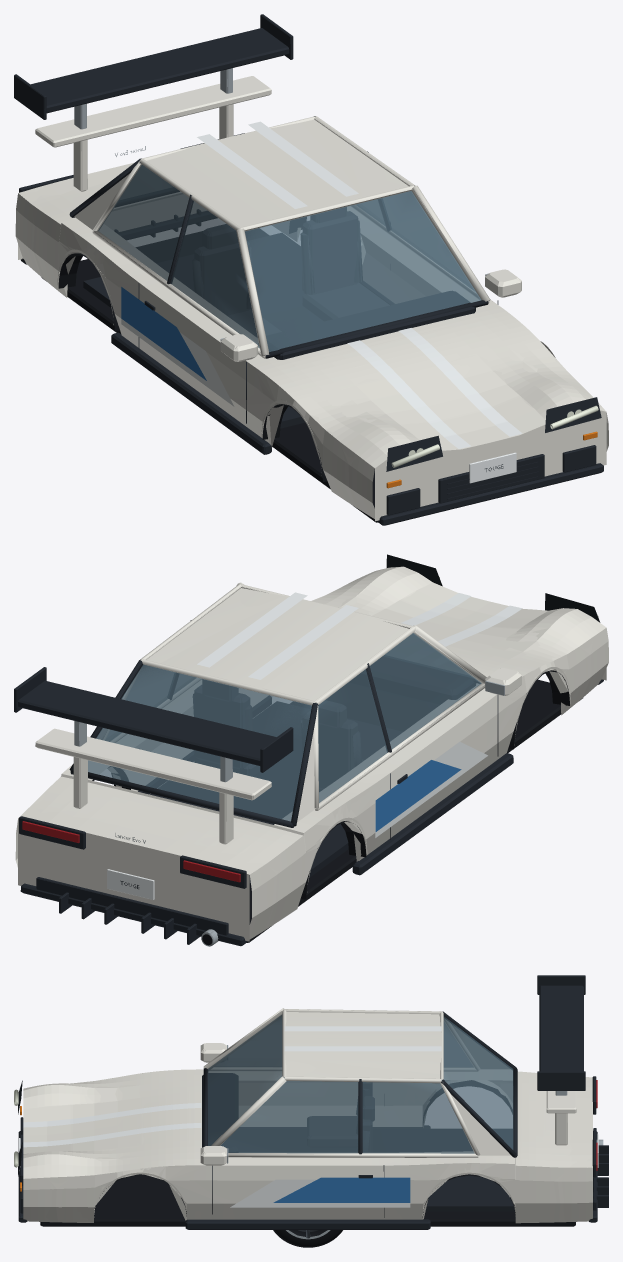
The model's file is evo5.glb.
The picture shows the model from 3 angles, top to bottom: view 1: azimuth 30°, elevation 25°; view 2: azimuth 150°, elevation 25°; view 3: azimuth 270°, elevation 25°; orthographic projection. The views are drawn at different scales.
Visible parts, largest first — view 1: LOD0_body, LOD0_cabin, LOD0_glass, LOD1_glass, LOD1_body, LOD0_hood, LOD1_hood, LOD1_cabin, LOD1_spoiler_gt, LOD0_spoiler_stock, LOD0_spoiler_gt, LOD1_vinyl_twin (+3 smaller); view 2: LOD0_body, LOD0_cabin, LOD0_glass, LOD1_glass, LOD1_body, LOD1_cabin, LOD1_spoiler_gt, LOD0_spoiler_stock, LOD0_hood, LOD1_hood, LOD0_spoiler_gt, LOD0_vinyl_apex (+3 smaller); view 3: LOD0_body, LOD0_cabin, LOD1_glass, LOD0_glass, LOD1_body, LOD0_hood, LOD1_cabin, LOD1_hood, LOD0_vinyl_apex, LOD1_spoiler_gt, LOD0_vinyl_twin, LOD1_vinyl_twin (+3 smaller).
Part boxes in pixels (x1,y1,x2,y2): LOD0_body: (15, 133, 606, 525); LOD0_cabin: (69, 116, 490, 428); LOD0_glass: (98, 165, 480, 351); LOD1_glass: (98, 165, 480, 351); LOD1_body: (18, 148, 608, 525); LOD0_hood: (269, 309, 585, 455); LOD1_hood: (294, 320, 564, 450); LOD1_cabin: (71, 116, 489, 428); LOD1_spoiler_gt: (31, 28, 293, 129); LOD0_spoiler_stock: (35, 76, 271, 191); LOD0_spoiler_gt: (14, 14, 293, 129); LOD1_vinyl_twin: (201, 122, 522, 448); LOD0_body: (18, 554, 608, 946); LOD0_cabin: (69, 582, 486, 890); LOD0_glass: (88, 633, 481, 821); LOD1_glass: (88, 633, 481, 821); LOD1_body: (15, 571, 606, 945); LOD1_cabin: (118, 584, 484, 889); LOD1_spoiler_gt: (14, 667, 275, 781); LOD0_spoiler_stock: (36, 728, 271, 844); LOD0_hood: (325, 566, 591, 685); LOD1_hood: (339, 571, 548, 659); LOD0_spoiler_gt: (14, 667, 293, 781); LOD0_vinyl_apex: (375, 741, 487, 837); LOD0_body: (14, 1043, 608, 1229); LOD0_cabin: (202, 1008, 517, 1211); LOD1_glass: (208, 1015, 513, 1153); LOD0_glass: (207, 1015, 513, 1153); LOD1_body: (14, 1043, 602, 1229); LOD0_hood: (23, 1075, 202, 1167); LOD1_cabin: (203, 1009, 517, 1211); LOD1_hood: (23, 1081, 190, 1158); LOD0_vinyl_apex: (230, 1177, 410, 1207); LOD1_spoiler_gt: (538, 976, 585, 1095); LOD0_vinyl_twin: (25, 1026, 441, 1147); LOD1_vinyl_twin: (23, 1026, 441, 1147).
Size of the model in its own units: 2.03 by 1.85 by 4.54.
